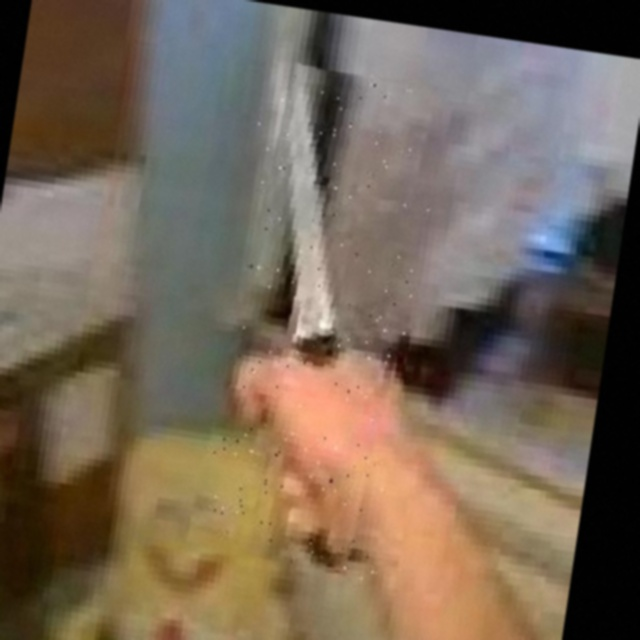Sharp-Object: (194, 62, 447, 583)
